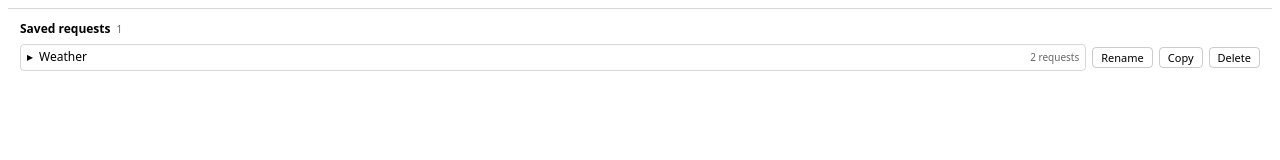
Test case: CollectionTree list › shows summaries with counts and reads one collection only when expanded
Expected: the text "2 requests" is shown, [1030,50,1079,64]
Expected: the text "1" is shown, [116,22,122,36]
Step 1. Click the text "Weather" → (63, 56), box [39,48,87,65]
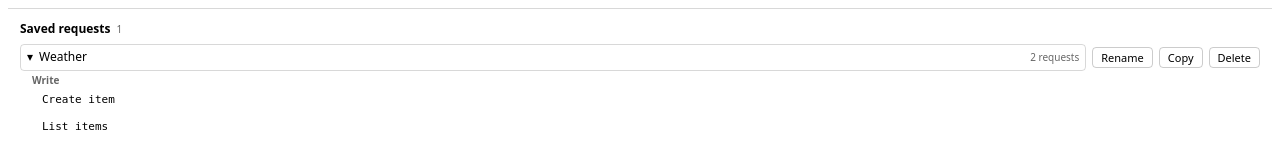
Expected: the button "List items" is shown, [36,116,1260,137]
Expected: the button "Create item" is shown, [36,89,1260,110]
Expected: the text "Write" is shown, [32,73,59,87]
Step 2. Click the text "Weather" → (63, 56), box [39,48,87,65]
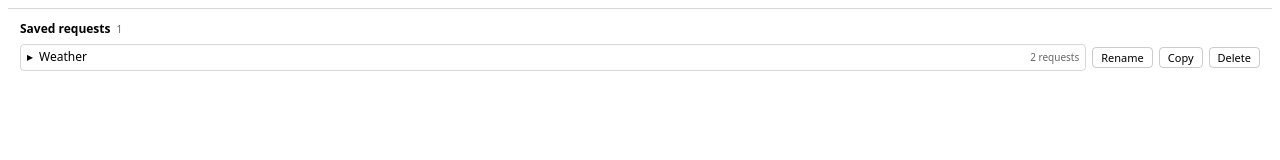
Expected: the button "List items" is gone
